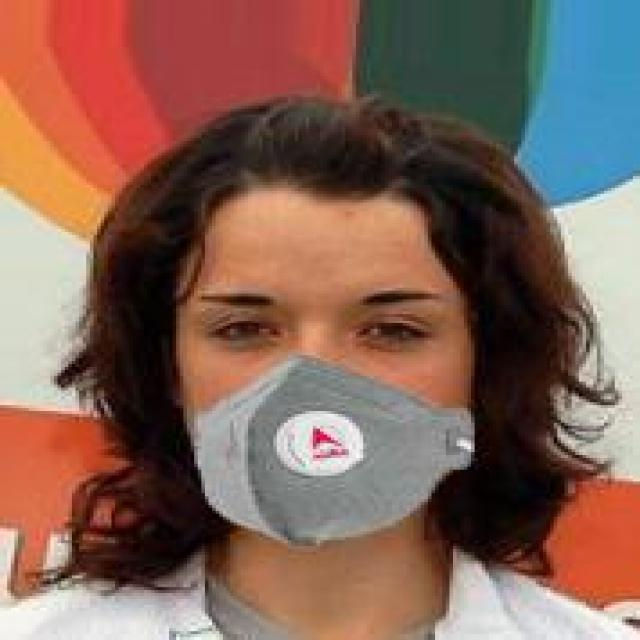mask: (86, 97, 561, 593)
